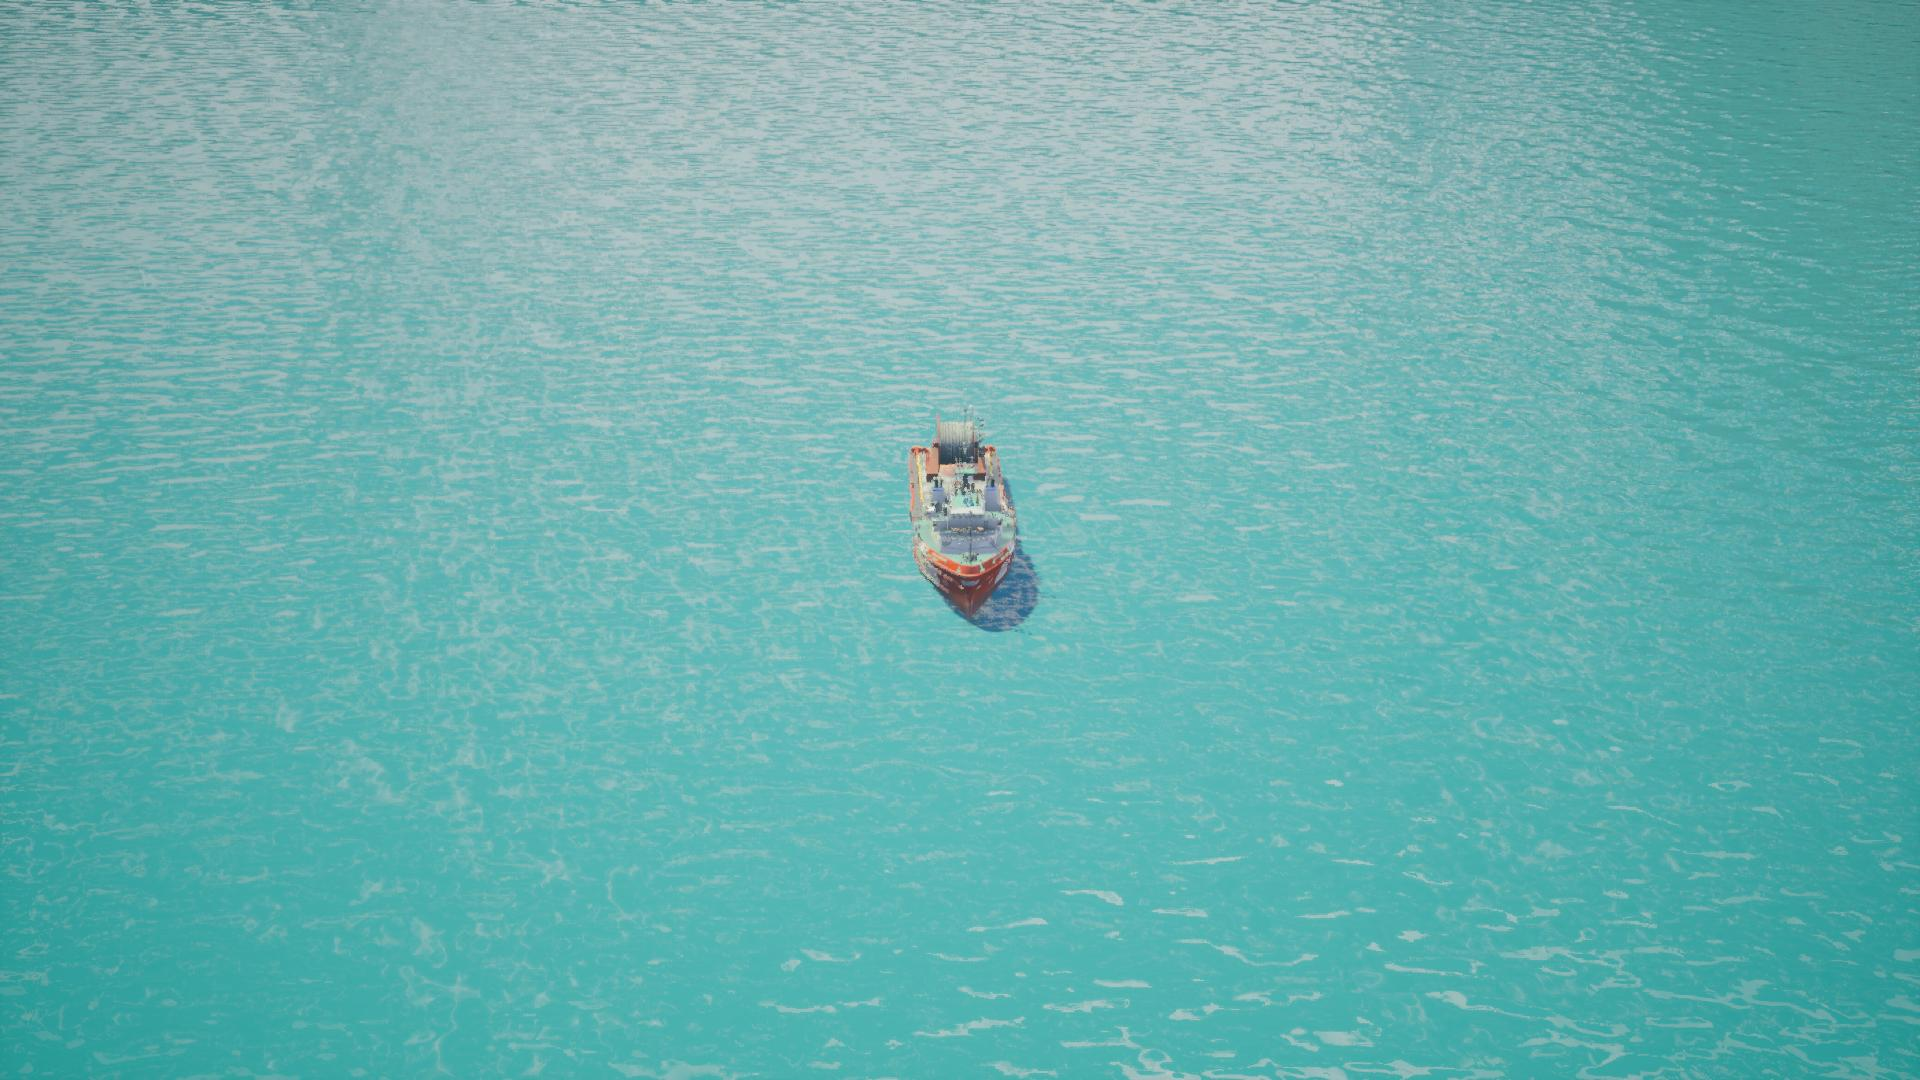Tug Boat: (903, 417, 1030, 635)
